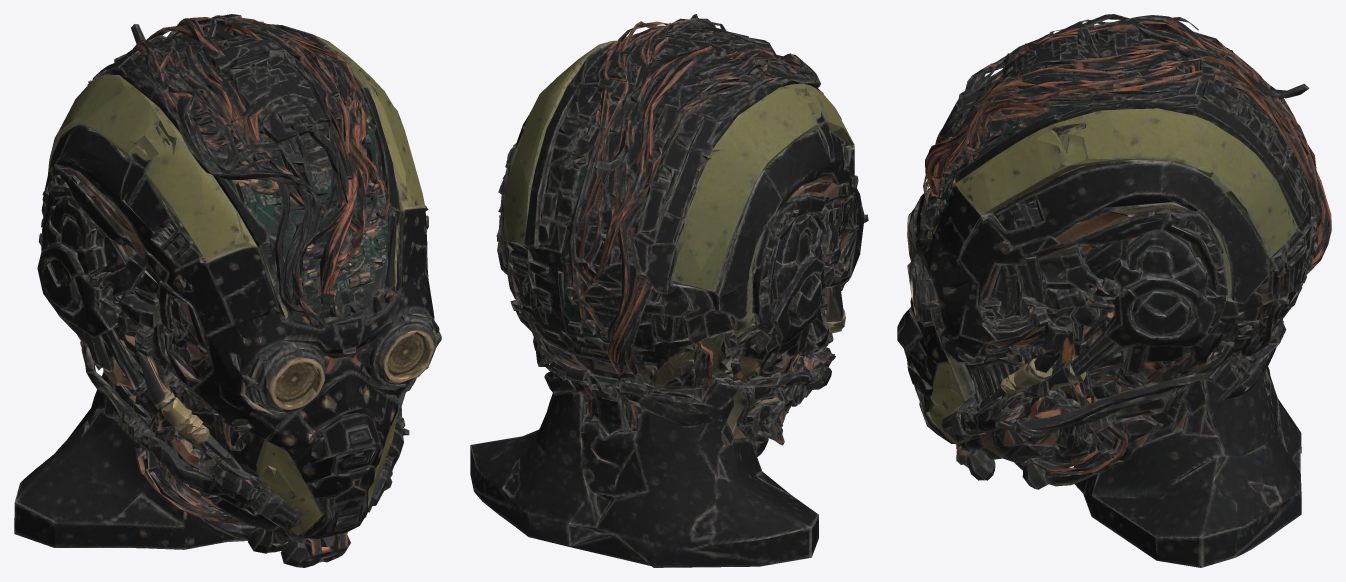
The model's file is robot_head.glb.
3 renders of one model, left to right at view 1: azimuth 30°, elevation 25°; view 2: azimuth 150°, elevation 25°; view 3: azimuth 270°, elevation 25°, orthographic. The views are drawn at different scales.
Visible parts, largest first — view 1: Mesh_0; view 2: Mesh_0; view 3: Mesh_0.
Part boxes in pixels (x1,y1,x2,y2): Mesh_0: [14, 14, 441, 567]; Mesh_0: [470, 14, 868, 567]; Mesh_0: [897, 14, 1331, 567].
Bounding box in the file's own units: 0.2837 × 0.36 × 0.3113.
Materials: 1 (1 with a texture image).
